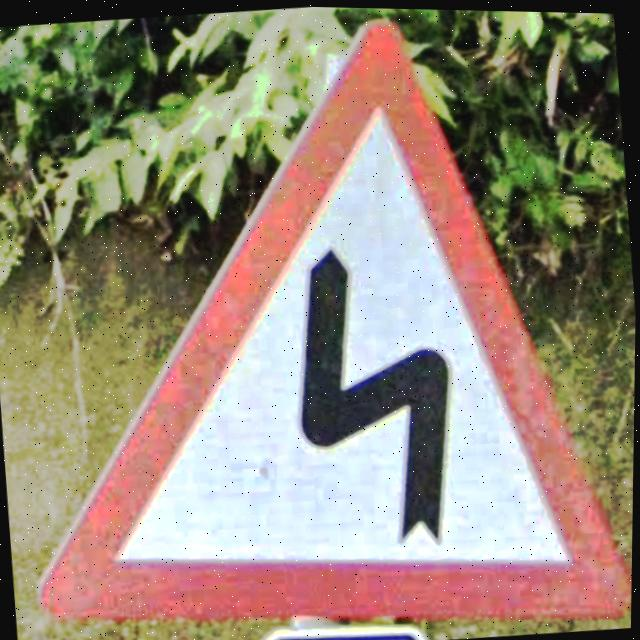doublebendleft: (38, 20, 633, 623)
